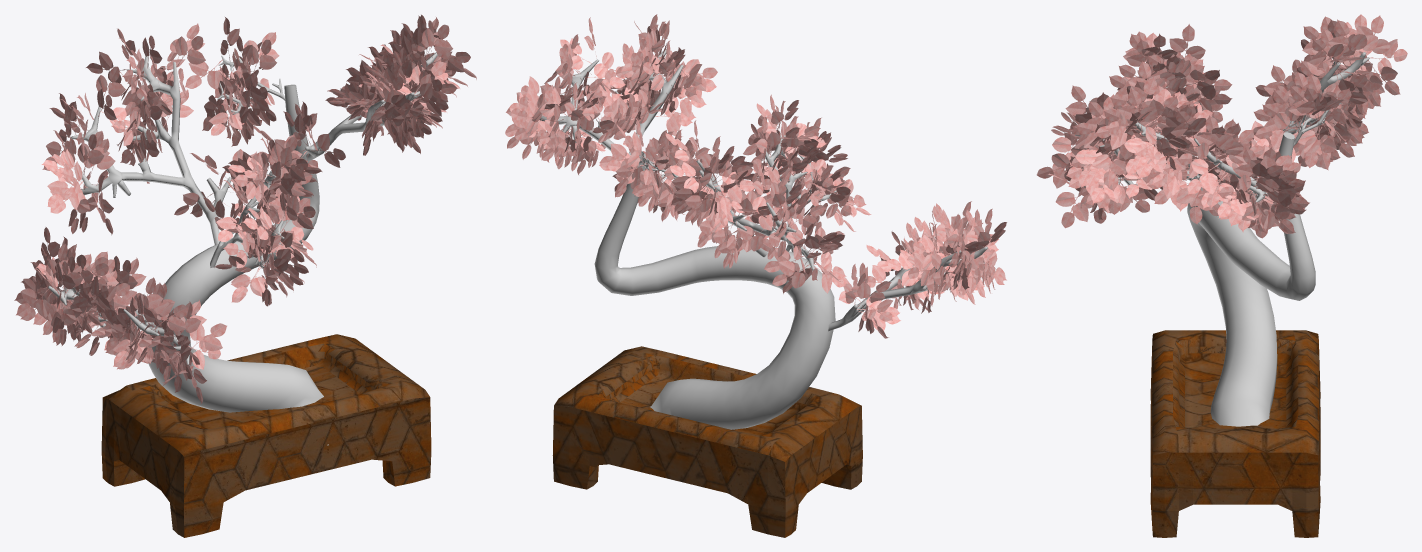
File: bonsai.gltf
3 views of the same model, side by side, from view 1: azimuth 30°, elevation 25°; view 2: azimuth 150°, elevation 25°; view 3: azimuth 270°, elevation 25° (orthographic). The views are drawn at different scales.
Visible parts, largest first — view 1: Cube, Trunk, pink-leaf-removebg-preview.431, pink-leaf-removebg-preview.026, pink-leaf-removebg-preview.118, pink-leaf-removebg-preview.230, pink-leaf-removebg-preview.376; view 2: Cube, Trunk; view 3: Cube, Trunk, pink-leaf-removebg-preview.104, pink-leaf-removebg-preview.233, pink-leaf-removebg-preview.103, pink-leaf-removebg-preview.410, pink-leaf-removebg-preview.290, pink-leaf-removebg-preview.399, pink-leaf-removebg-preview.113, pink-leaf-removebg-preview.271, pink-leaf-removebg-preview.330, pink-leaf-removebg-preview.232 (+13 smaller).
Boxes of the visible parts, box(x1,y1,x2,y2) form: Cube: box(101, 334, 431, 537); Trunk: box(48, 52, 437, 445); pink-leaf-removebg-preview.431: box(185, 59, 222, 89); pink-leaf-removebg-preview.026: box(189, 323, 226, 351); pink-leaf-removebg-preview.118: box(16, 288, 50, 317); pink-leaf-removebg-preview.230: box(422, 24, 453, 58); pink-leaf-removebg-preview.376: box(175, 36, 205, 67); Cube: box(552, 346, 862, 537); Trunk: box(539, 49, 987, 429); Cube: box(1150, 330, 1320, 537); Trunk: box(1075, 52, 1369, 426); pink-leaf-removebg-preview.104: box(1055, 192, 1088, 228); pink-leaf-removebg-preview.233: box(1187, 158, 1219, 194); pink-leaf-removebg-preview.103: box(1036, 153, 1073, 188); pink-leaf-removebg-preview.410: box(1254, 112, 1300, 149); pink-leaf-removebg-preview.290: box(1118, 88, 1157, 132); pink-leaf-removebg-preview.399: box(1304, 125, 1336, 170); pink-leaf-removebg-preview.113: box(1169, 24, 1205, 59); pink-leaf-removebg-preview.271: box(1261, 199, 1295, 233); pink-leaf-removebg-preview.330: box(1328, 19, 1367, 60); pink-leaf-removebg-preview.232: box(1195, 115, 1233, 160).
Size of the model in its own units: 4.51 by 3.94 by 2.99.
